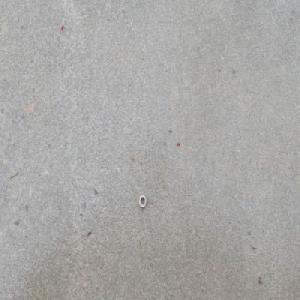Nut: (137, 194, 147, 209)
